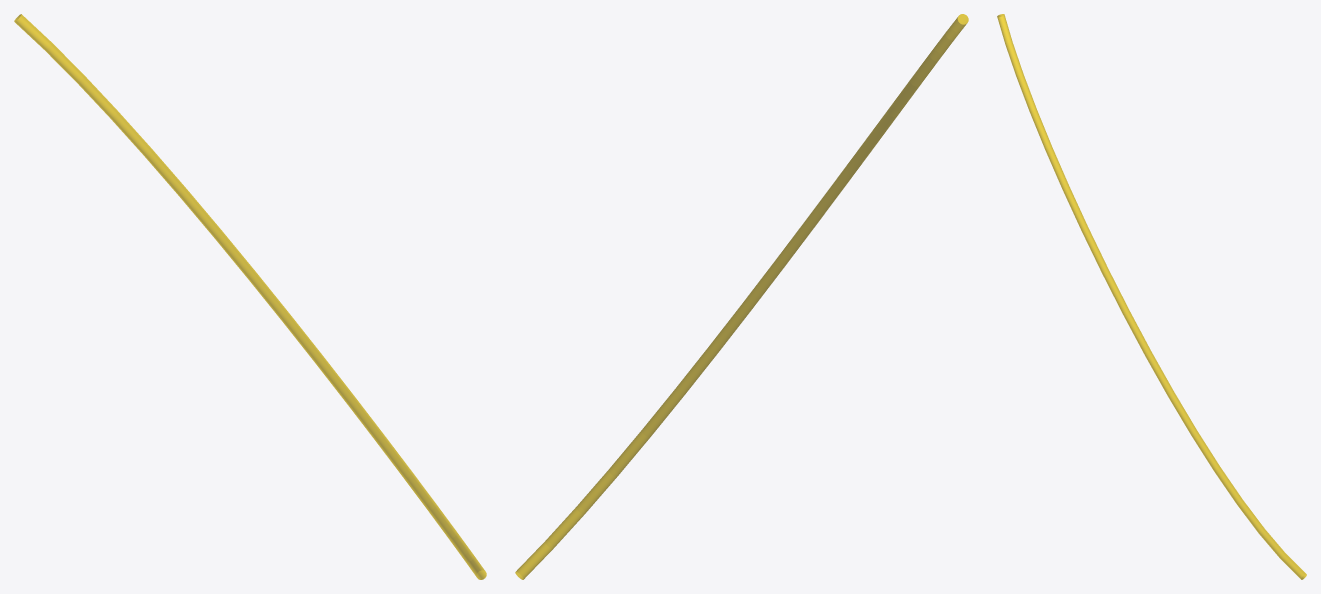
The model's file is Event_84804159_track_14.fbx.
The picture shows the model from 3 angles, left to right: view 1: azimuth 30°, elevation 25°; view 2: azimuth 150°, elevation 25°; view 3: azimuth 330°, elevation 25°; orthographic projection. The views are drawn at different scales.
Parts seen in each view (by area): view 1: Model; view 2: Model; view 3: Model.
Part boxes in pixels (x1,y1,x2,y2): Model: [14, 14, 486, 579]; Model: [515, 14, 968, 579]; Model: [997, 14, 1306, 579].
Bounding box in the file's own units: 1.93 × 2.7 × 0.4071.
